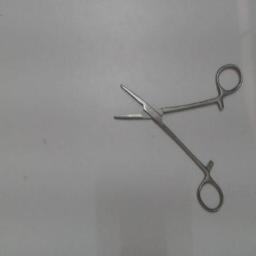Mayo Needle Holder: (110, 60, 246, 216)
